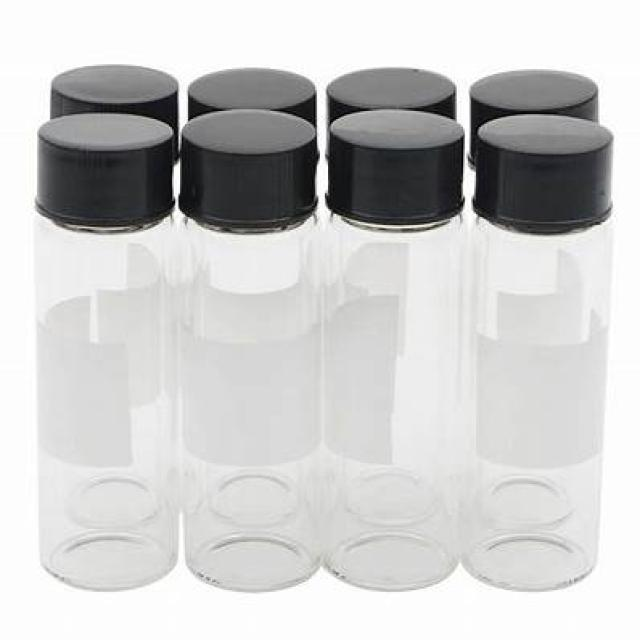vial: (472, 109, 615, 168), (324, 106, 474, 160), (185, 109, 326, 157), (52, 51, 177, 104), (42, 108, 179, 154), (473, 67, 610, 112), (322, 65, 458, 108), (191, 64, 323, 108)
